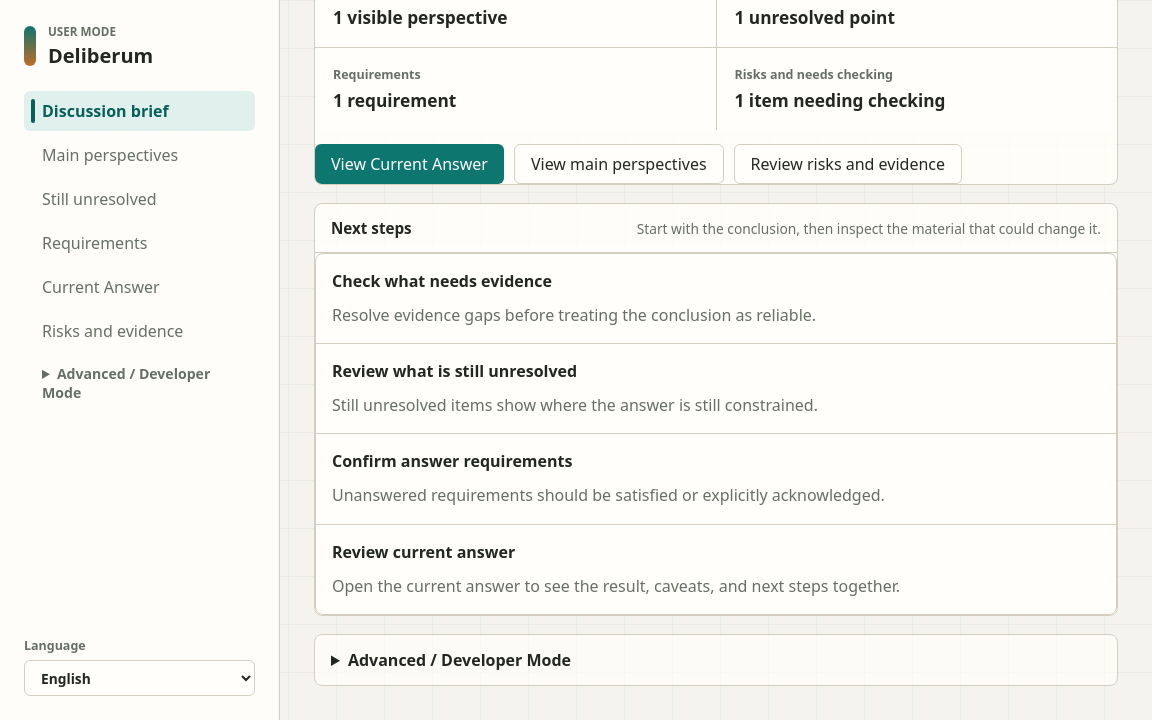
Test: @deliberum/web shell › renders the session overview from daemon ledger events
The width and height of the screenshot is (1152, 720).
(page scrolled)
Check: the link "Discussion brief" is shown, box left=24, top=91, right=255, bottom=131
Check: the text "1 visible perspective" is shown, box left=333, top=6, right=508, bottom=29
Click the heading "Advanced / Developer Mode" below "Review current answer". click: x=459, y=660
box: left=348, top=649, right=571, bottom=671
(page scrolled)
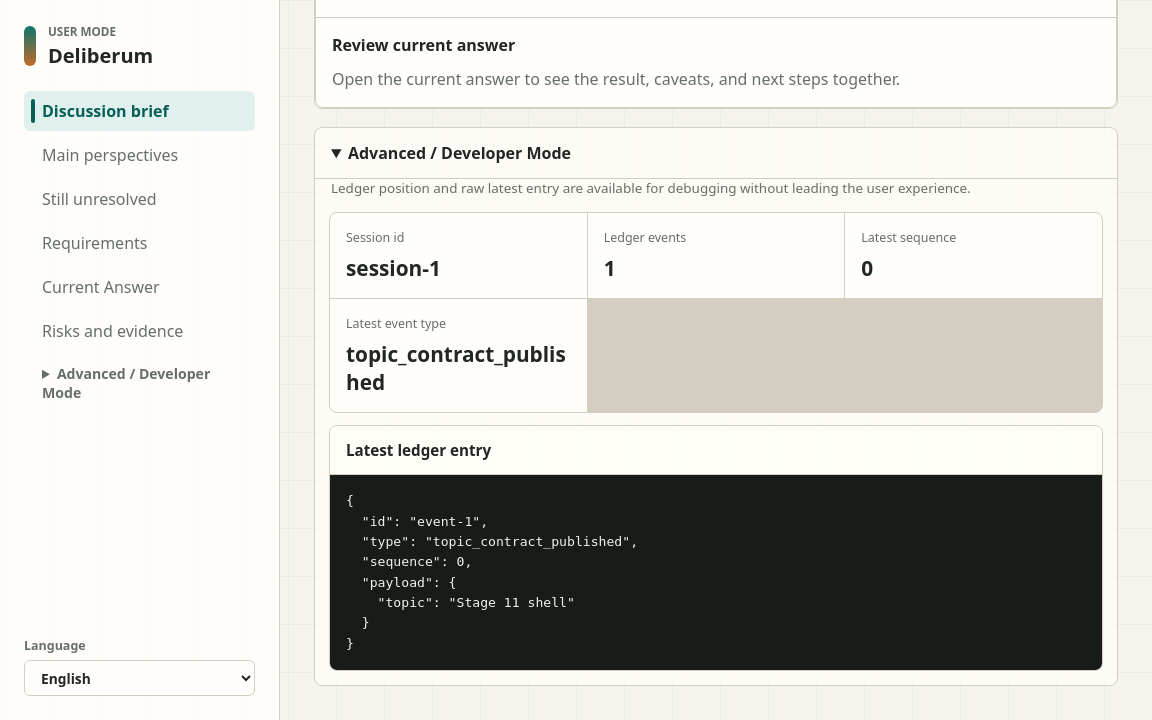
Check: the text "Ledger position and raw latest entry are available for debugging without leading the user experience." is shown, box left=331, top=179, right=971, bottom=197
Check: the text "topic_contract_published" is shown, box left=346, top=340, right=571, bottom=396
